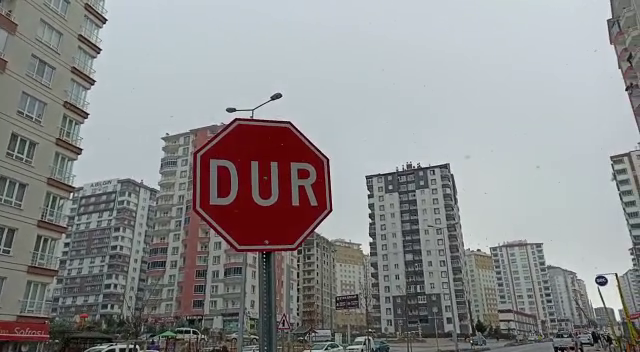stop: (190, 115, 337, 256)
